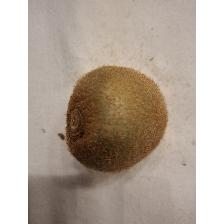Kiwi: (62, 62, 170, 176)
